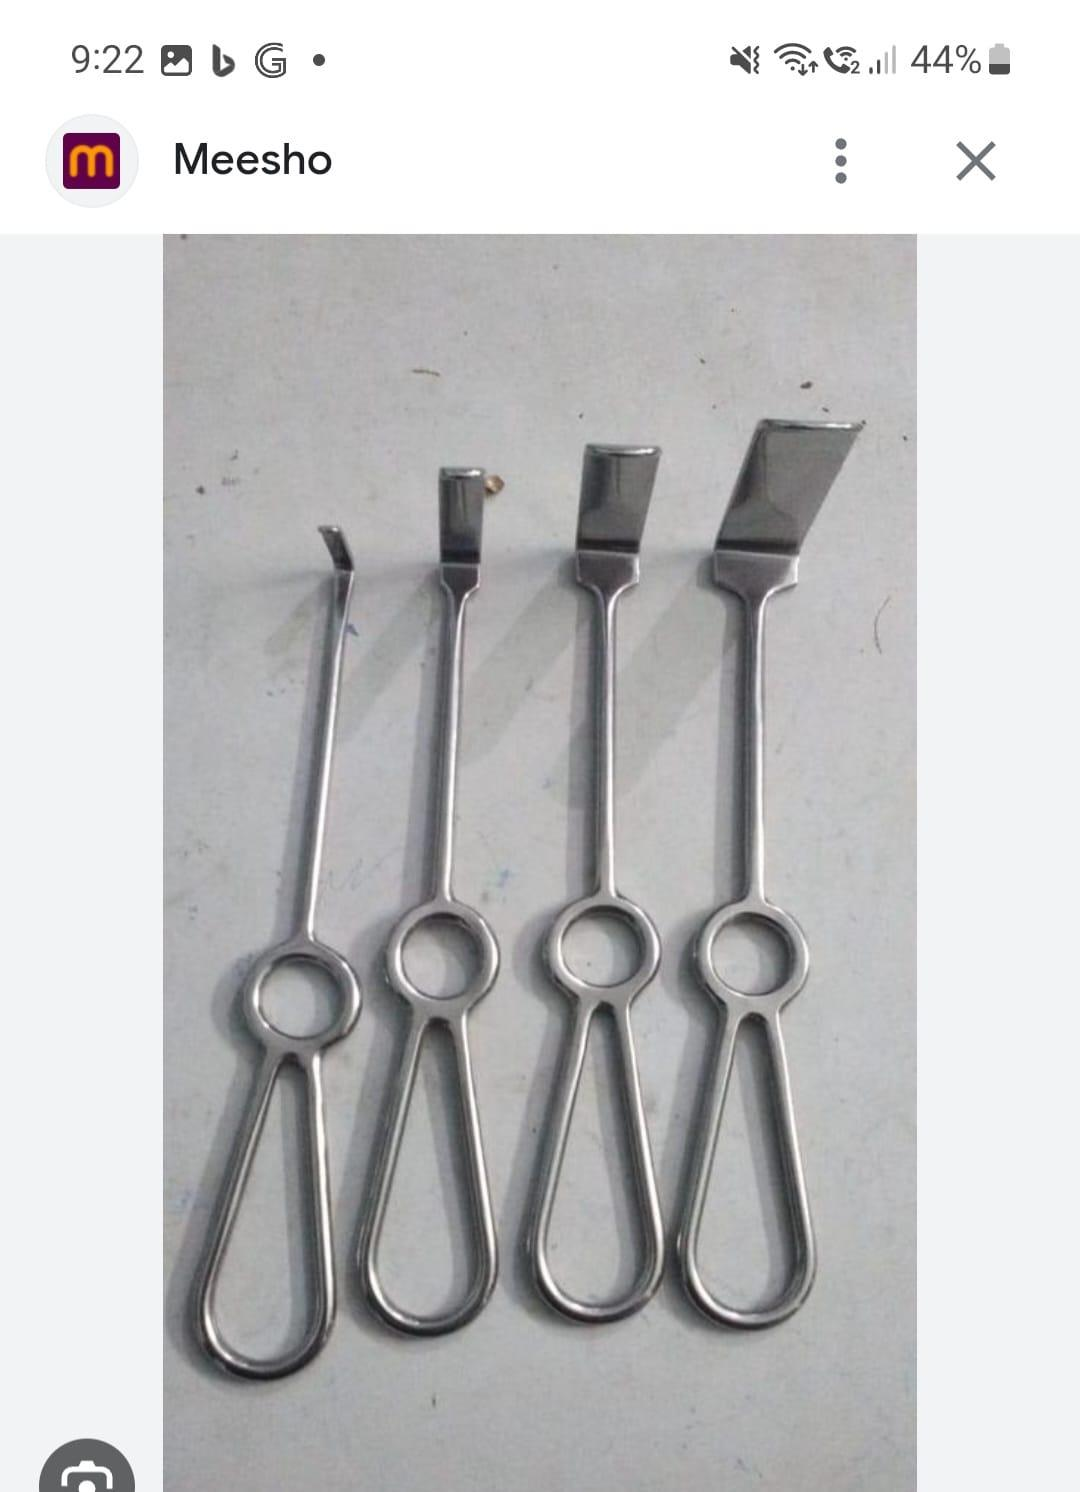Langenbach Retractor: (683, 403, 890, 1352), (518, 420, 680, 1322), (368, 460, 502, 1355)
